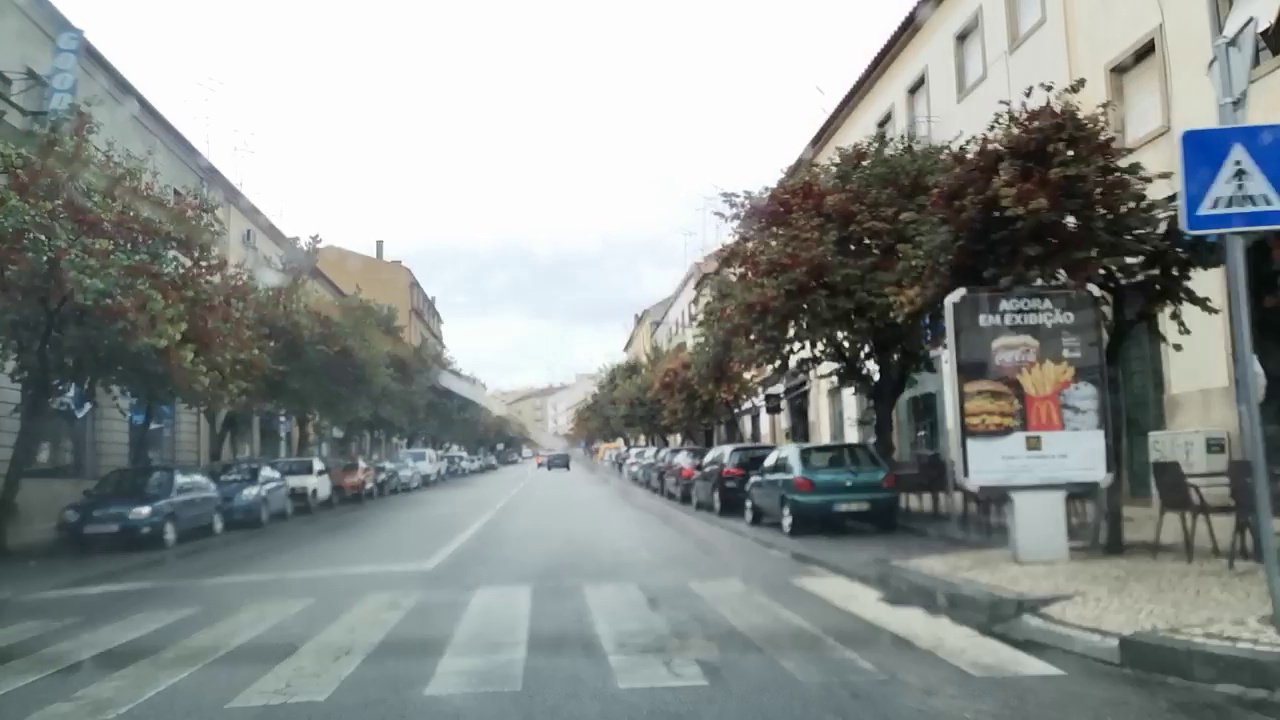Stairs: (0, 577, 1056, 720)
